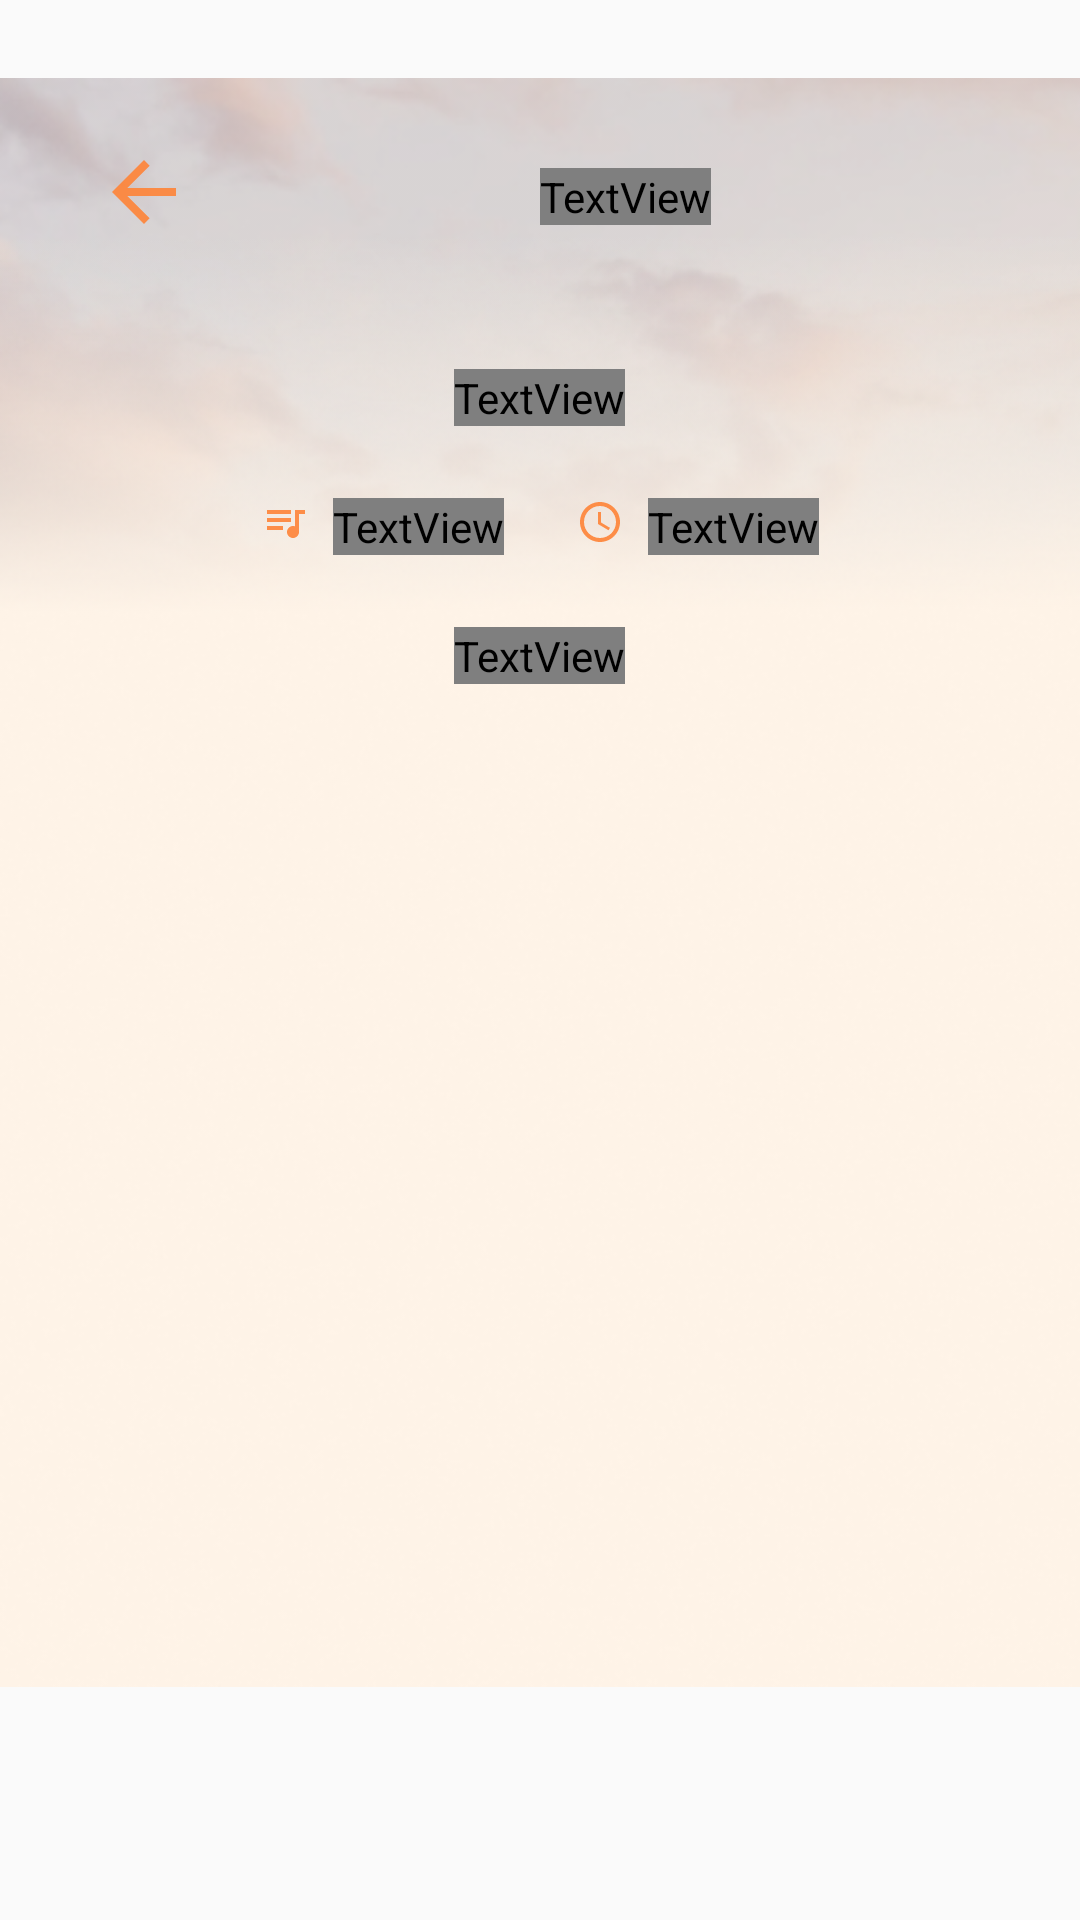

Named icons in this screenshot (1080 x 1920) and their bounding boxes, (left=x1, top=y1, right=x2, bottom=y2):
iconarrow: (left=112, top=160, right=176, bottom=224)
iconmusic: (left=267, top=510, right=305, bottom=538)
icontime: (left=580, top=502, right=620, bottom=542)
